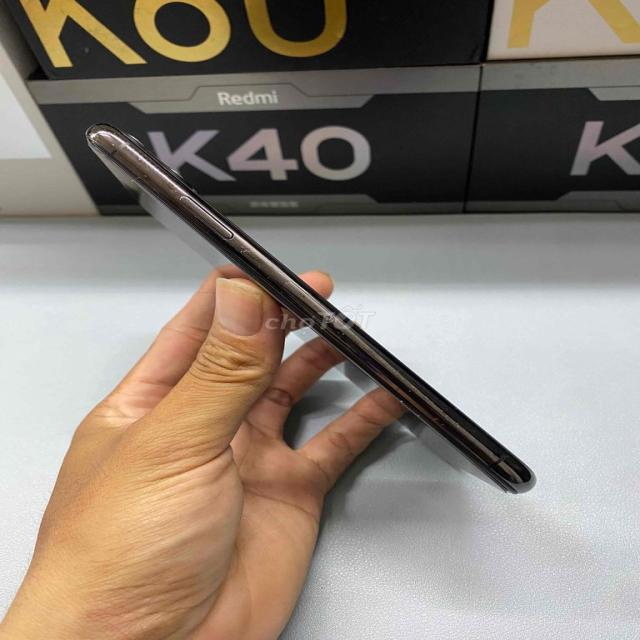scratch: (98, 130, 180, 193), (224, 240, 276, 268), (424, 405, 476, 429), (391, 391, 414, 412)
